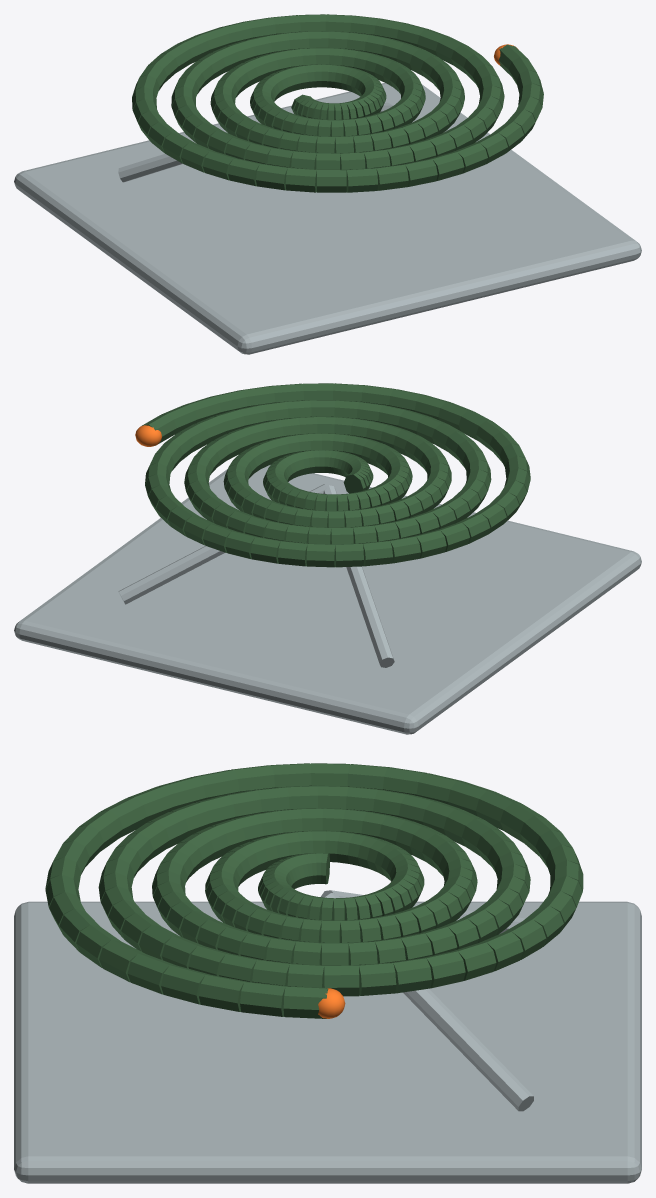
Rendered from Incense.fbx.
3 renders of one model, top to bottom at view 1: azimuth 30°, elevation 25°; view 2: azimuth 150°, elevation 25°; view 3: azimuth 270°, elevation 25°, orthographic. The views are drawn at different scales.
Visible parts, largest first — view 1: Metal ash tray, Coil stand.001, Green spiral.171, Green spiral.172, Green spiral.169, Green spiral.170, Green spiral.168, Green spiral.173, Green spiral.167, Green spiral.174, Green spiral.166, Green spiral.175 (+5 smaller); view 2: Metal ash tray, Coil stand, Coil stand.001, Green spiral.158, Green spiral.156, Green spiral.155, Green spiral.157, Green spiral.159, Green spiral.154, Green spiral.160, Green spiral.153, Green spiral.161 (+17 smaller); view 3: Metal ash tray, Coil stand, Green spiral.182, Green spiral.181, Green spiral.180, Green spiral.183, Green spiral.179, Green spiral.144, Green spiral.145, Green spiral.146, Green spiral.178, Green spiral.147 (+66 smaller).
Boxes of the visible parts, x1,y1,x2,y2 form: Metal ash tray: (14, 83, 641, 354); Coil stand.001: (118, 113, 293, 182); Green spiral.171: (346, 168, 377, 192); Green spiral.172: (375, 164, 408, 190); Green spiral.169: (285, 167, 316, 192); Green spiral.170: (317, 169, 346, 192); Green spiral.168: (256, 164, 288, 190); Green spiral.173: (402, 159, 437, 186); Green spiral.167: (228, 158, 262, 186); Green spiral.174: (428, 152, 464, 180); Green spiral.166: (203, 151, 236, 180); Green spiral.175: (452, 143, 487, 173); Metal ash tray: (14, 465, 641, 734); Coil stand: (118, 484, 326, 604); Coil stand.001: (323, 485, 394, 667); Green spiral.158: (362, 541, 392, 566); Green spiral.156: (306, 543, 335, 567); Green spiral.155: (278, 541, 307, 566); Green spiral.157: (335, 543, 363, 567); Green spiral.159: (388, 536, 420, 563); Green spiral.154: (250, 537, 282, 563); Green spiral.160: (412, 530, 446, 558); Green spiral.153: (225, 531, 257, 559); Green spiral.161: (436, 522, 469, 551); Metal ash tray: (14, 901, 641, 1183); Coil stand: (325, 893, 533, 1111); Green spiral.182: (240, 981, 287, 1016); Green spiral.181: (199, 974, 246, 1011); Green spiral.180: (161, 965, 209, 1004); Green spiral.183: (283, 986, 328, 1018); Green spiral.179: (127, 953, 176, 994); Green spiral.144: (358, 962, 396, 995); Green spiral.145: (391, 958, 431, 993); Green spiral.146: (423, 951, 465, 988); Green spiral.178: (99, 940, 145, 982); Green spiral.147: (453, 942, 496, 980).
Bounding box in the file's own units: 76 × 24.75 × 76.
